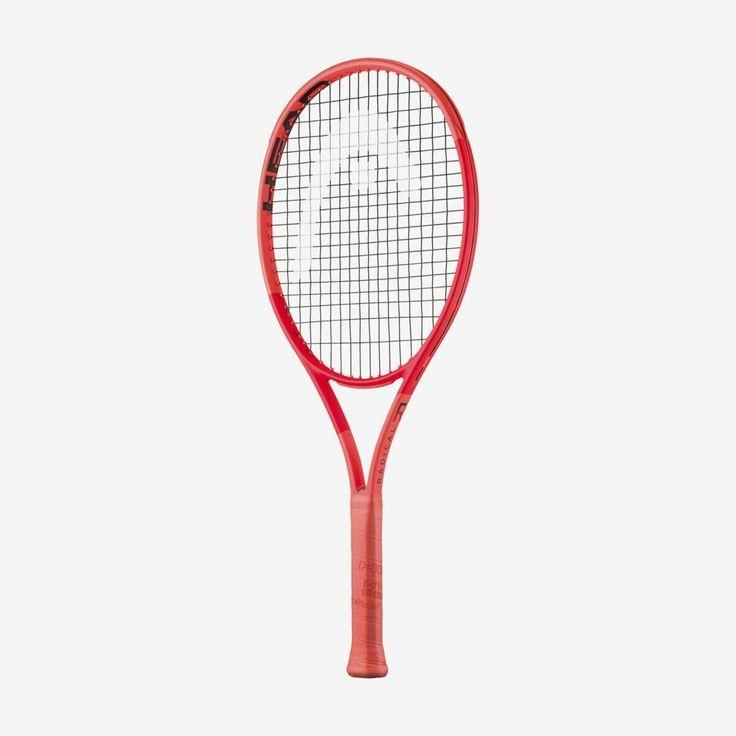Tennis-Racket: (262, 61, 472, 673)
